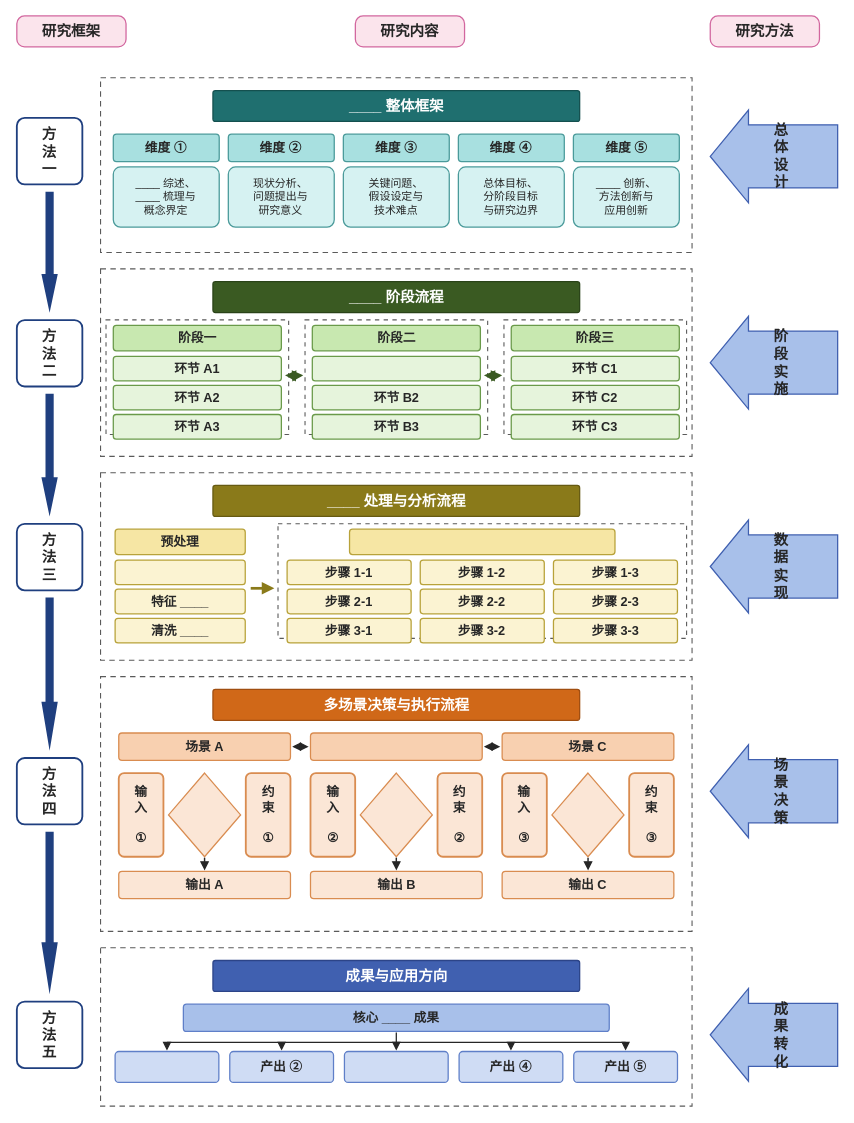
This 854x1123 diagram has some shape labels left out. The centre of each missing label's shape, as x and y in pixels:
____ 训练与分析: (481,541)
产出 ①: (166,1066)
产出 ③: (395,1066)
决策 A: (204,814)
决策 B: (396,814)
决策 C: (587,814)
原始 ____: (179,572)
场景 B: (395,746)
环节 B1: (396,368)
